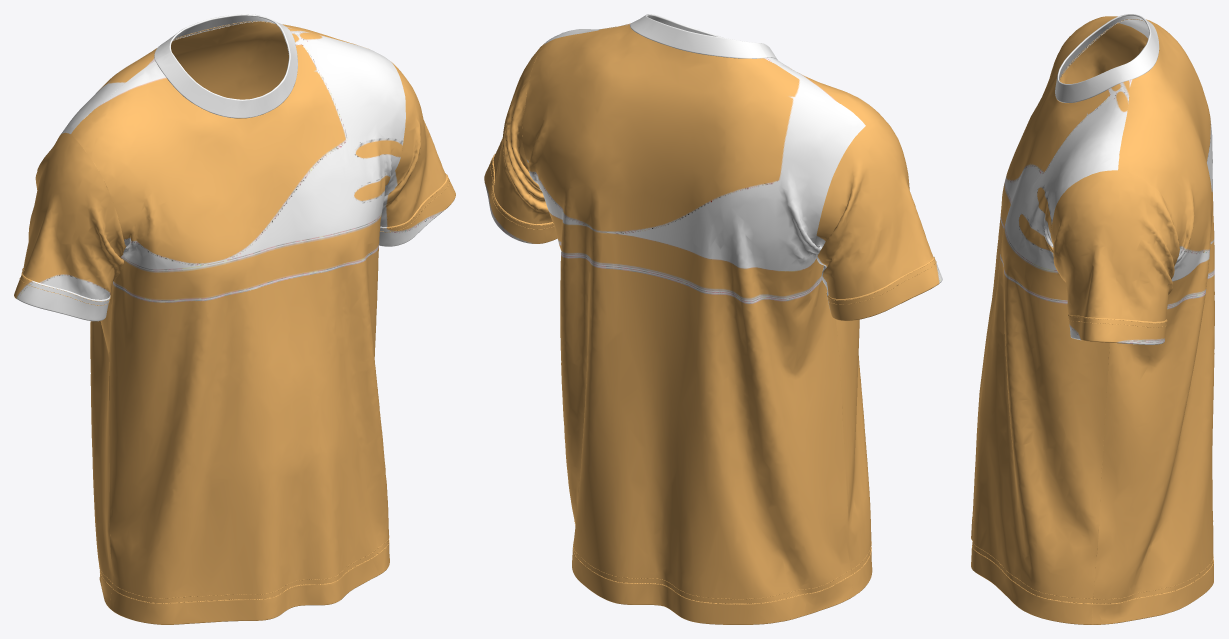
The picture shows the model from 3 angles, left to right: view 1: azimuth 30°, elevation 25°; view 2: azimuth 150°, elevation 25°; view 3: azimuth 270°, elevation 25°; orthographic projection. The views are drawn at different scales.
Visible parts, largest first — view 1: Cloth; view 2: Cloth; view 3: Cloth.
Part boxes in pixels (bbox=[...]): Cloth: bbox=[14, 14, 455, 624]; Cloth: bbox=[484, 14, 942, 624]; Cloth: bbox=[971, 14, 1214, 624].
Size of the model in its own units: 0.575 by 0.6789 by 0.2819.
Materials: 1 (1 with a texture image).
